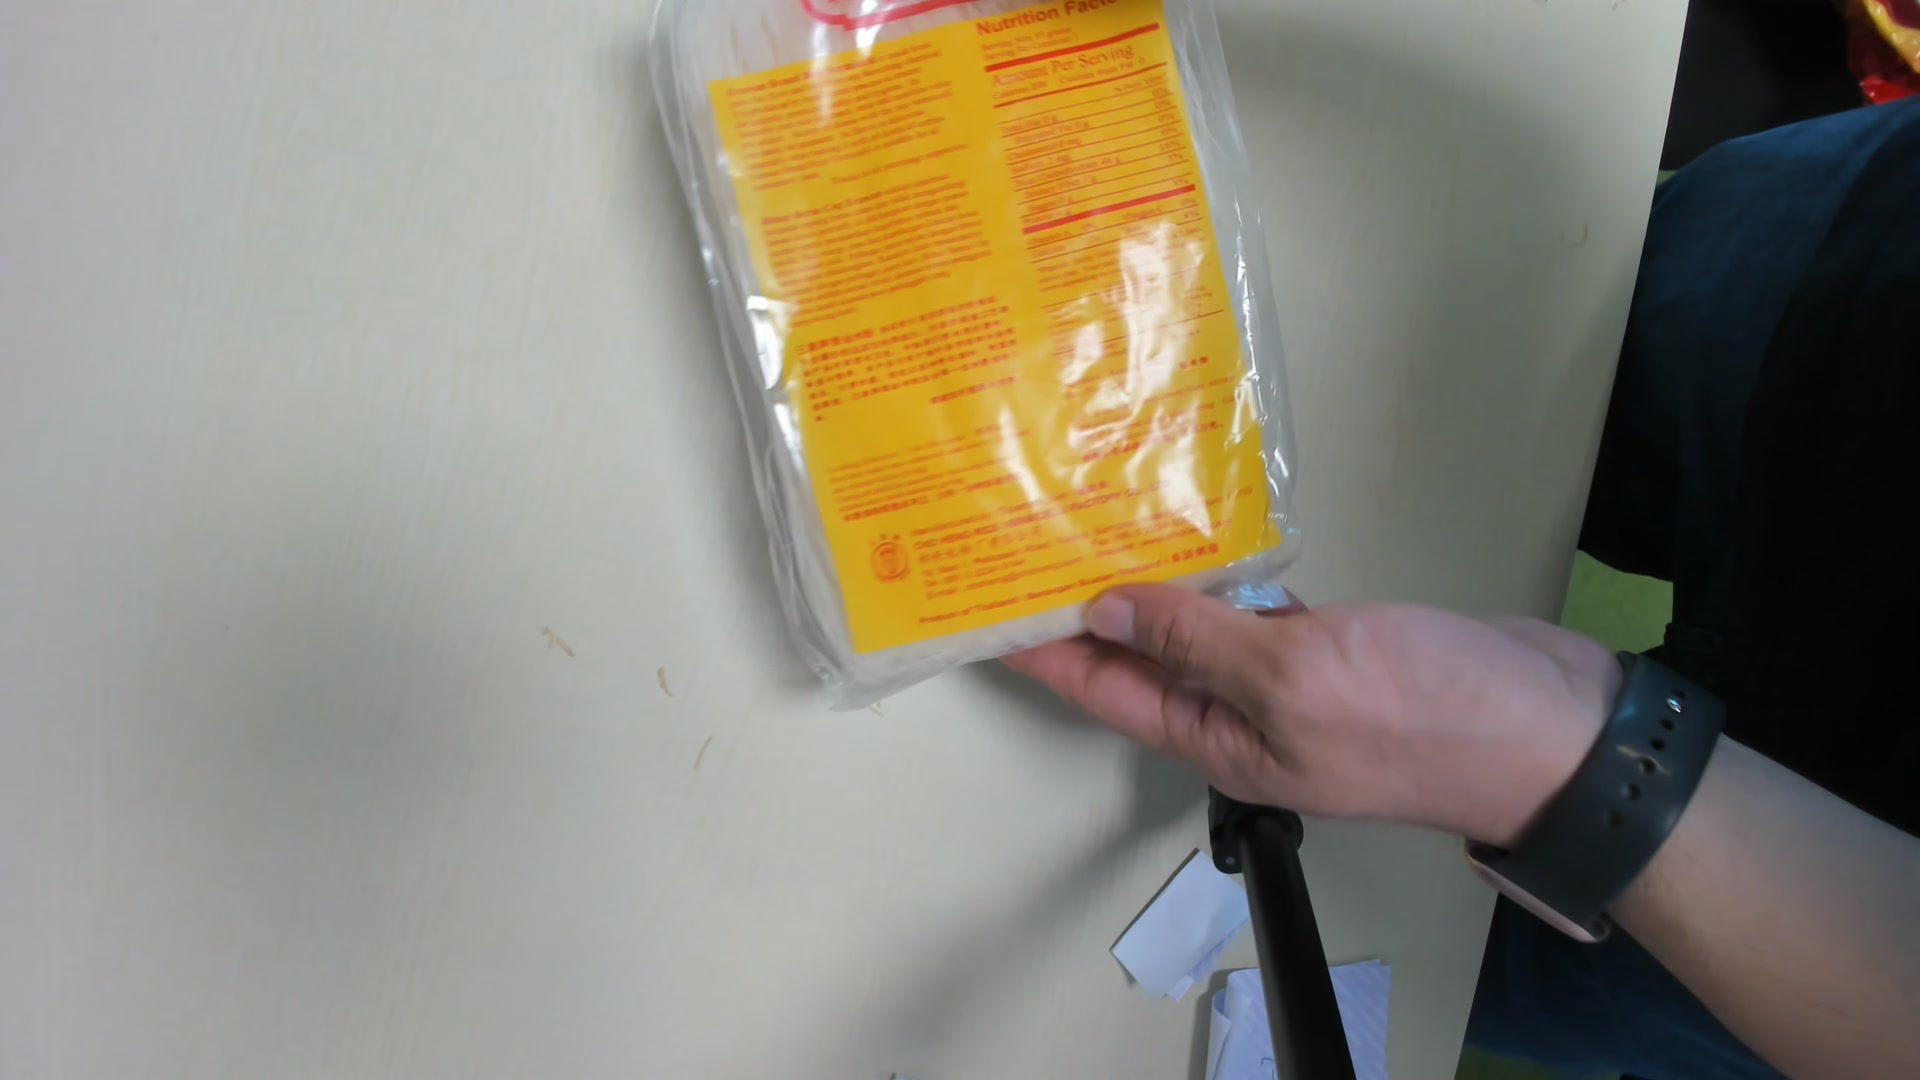BeeHoonVermicelli_500-599g_Halal_NonHealthy: (651, 1, 1315, 702)
